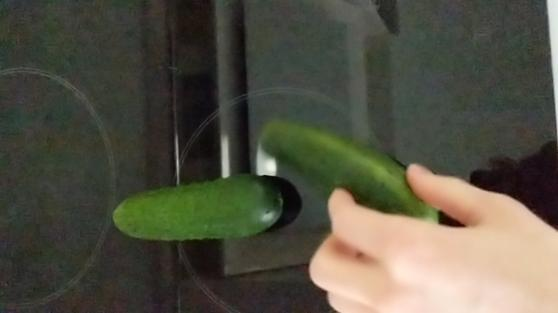cucumber: (257, 117, 441, 229), (108, 171, 284, 243)
